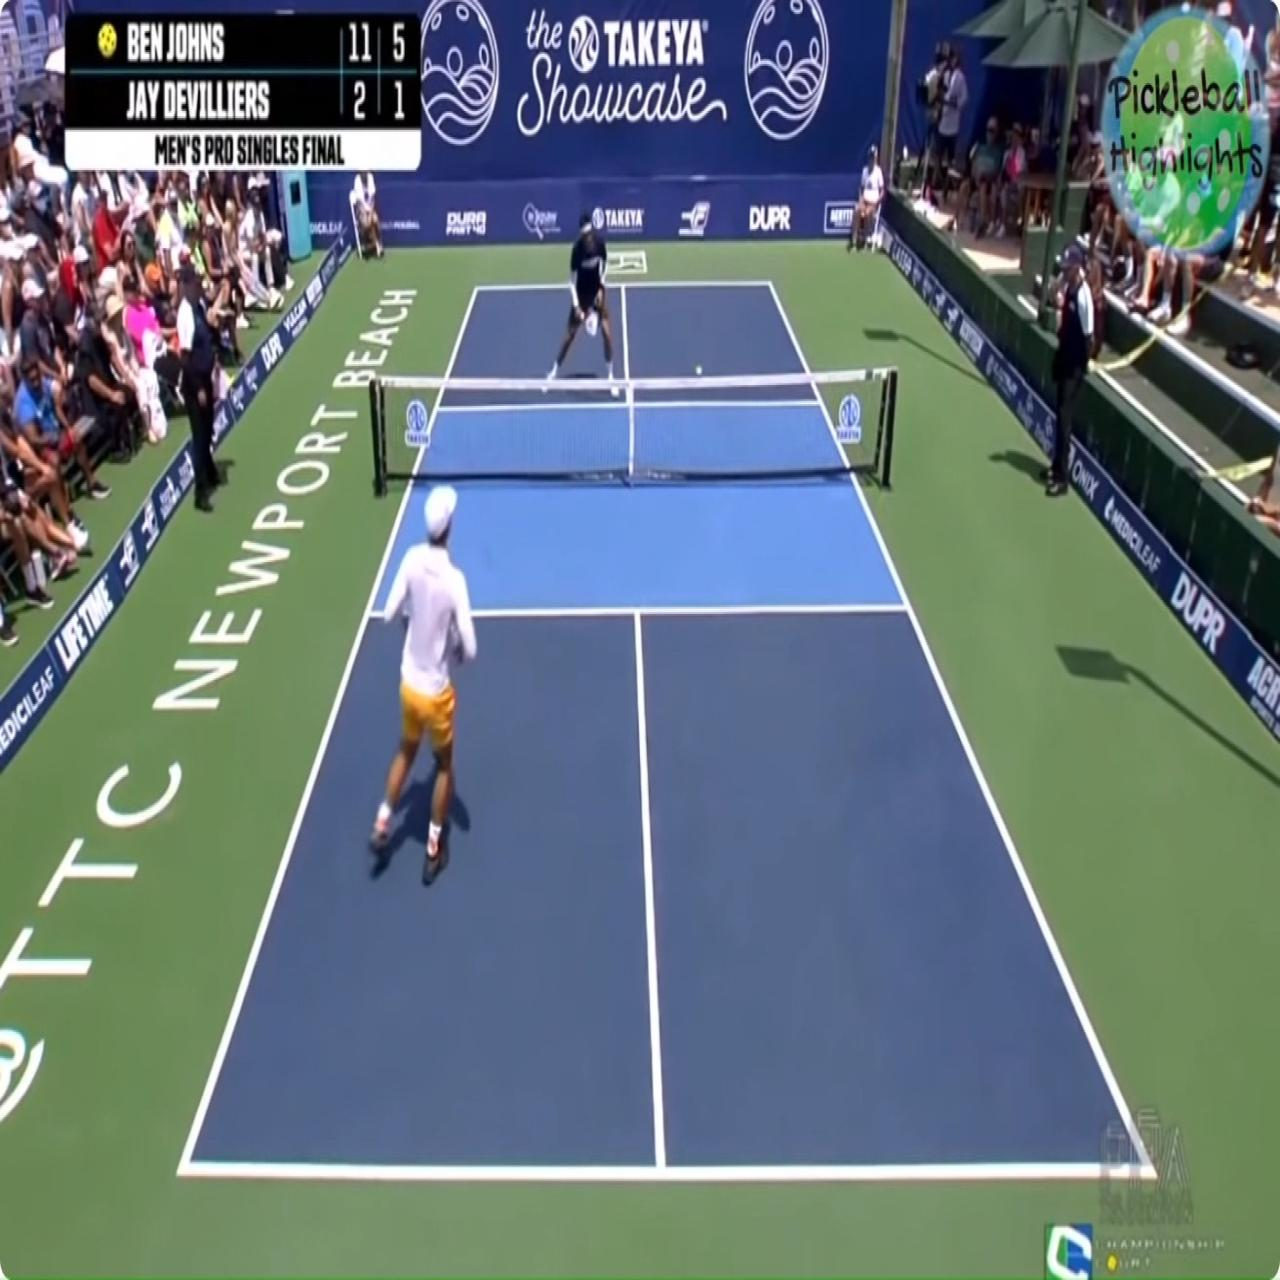pickleball: (695, 365, 702, 375)
